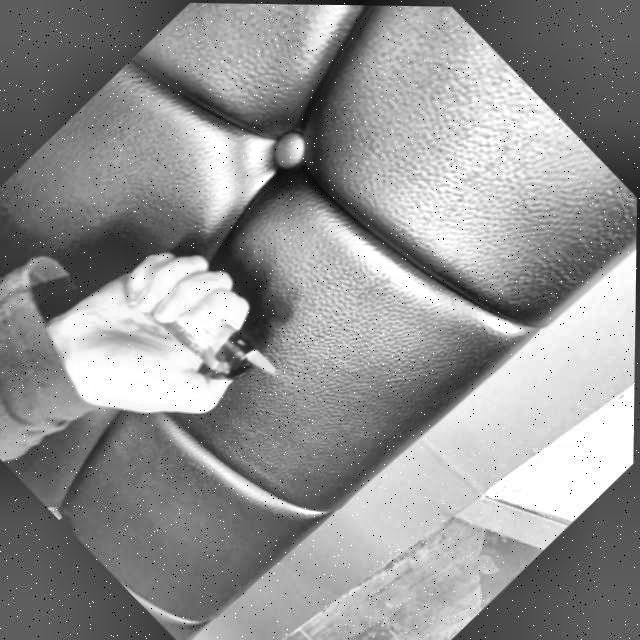Fire: (241, 342, 279, 380)
